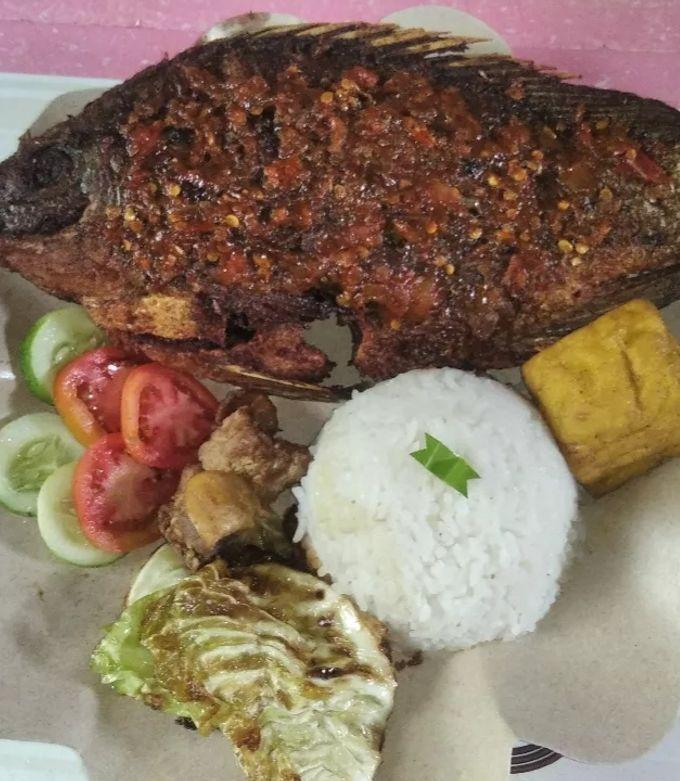buah_sayur_lainnya: (154, 599, 363, 715), (10, 426, 70, 508)
buah_sayur_vitA: (80, 365, 163, 523)
daging: (142, 93, 605, 302)
kacang_legume: (576, 339, 671, 447)
makanan_berpati: (358, 399, 533, 605)
